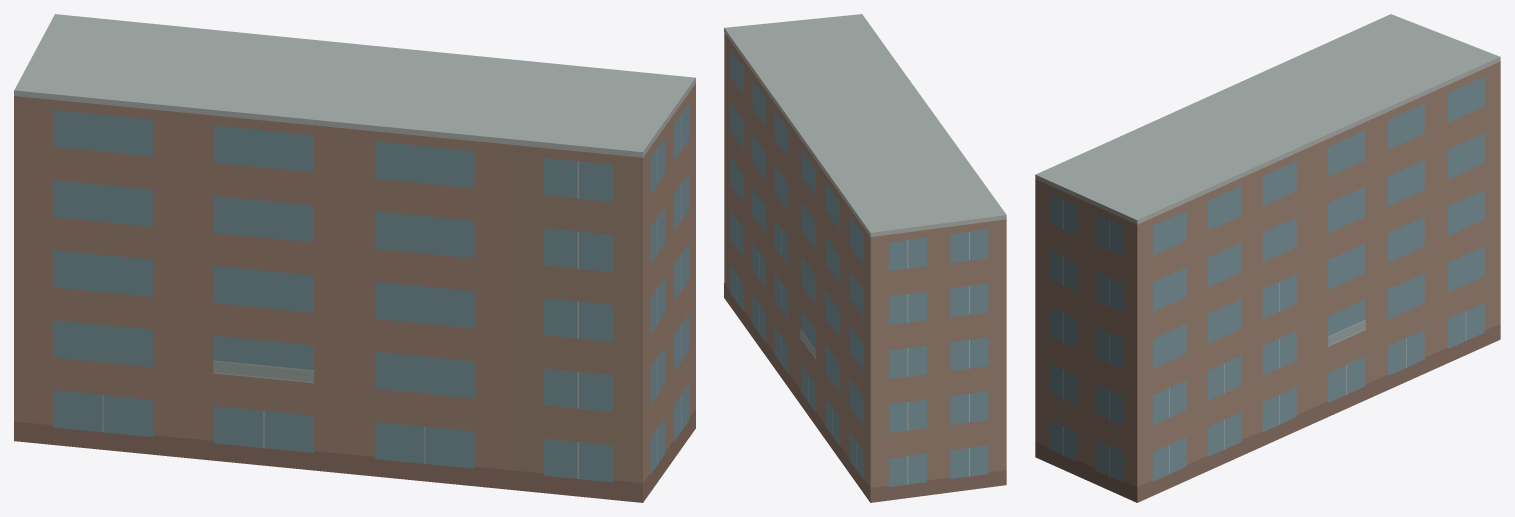
The model's file is survey-upis-32516385.glb.
3 renders of one model, left to right at view 1: azimuth 30°, elevation 25°; view 2: azimuth 150°, elevation 25°; view 3: azimuth 270°, elevation 25°, orthographic. The views are drawn at different scales.
Visible parts, largest first — view 1: survey-upis-32516385.tmp; view 2: survey-upis-32516385.tmp; view 3: survey-upis-32516385.tmp.
Boxes of the visible parts, bbox=[...] form: survey-upis-32516385.tmp: bbox=[14, 14, 695, 502]; survey-upis-32516385.tmp: bbox=[724, 14, 1006, 502]; survey-upis-32516385.tmp: bbox=[1035, 14, 1500, 502].
Size of the model in its own units: 23.87 by 15.25 by 22.76.
